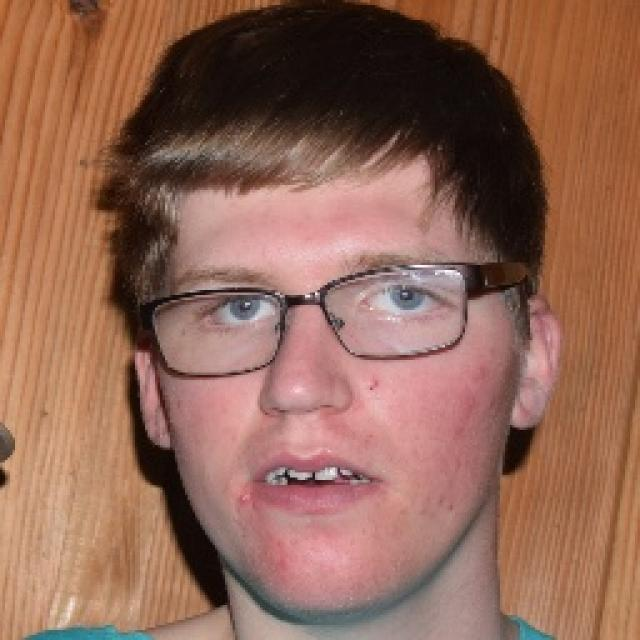earlobe: (509, 397, 549, 431), (144, 425, 177, 451)
eye: (349, 288, 460, 316), (263, 406, 341, 441), (200, 299, 283, 324)
wholeear: (509, 292, 565, 431), (129, 345, 174, 448)
